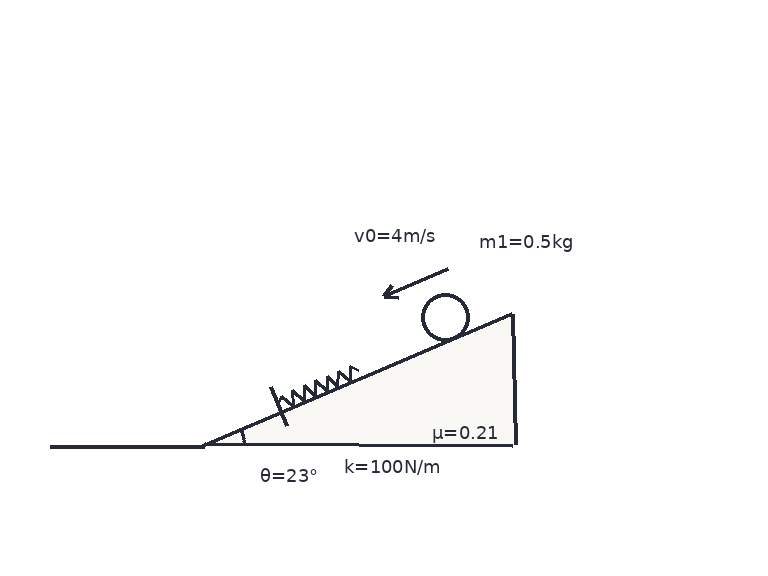ball: (419, 291, 471, 343)
ramp: (202, 312, 515, 447)
spring: (276, 364, 360, 407)
